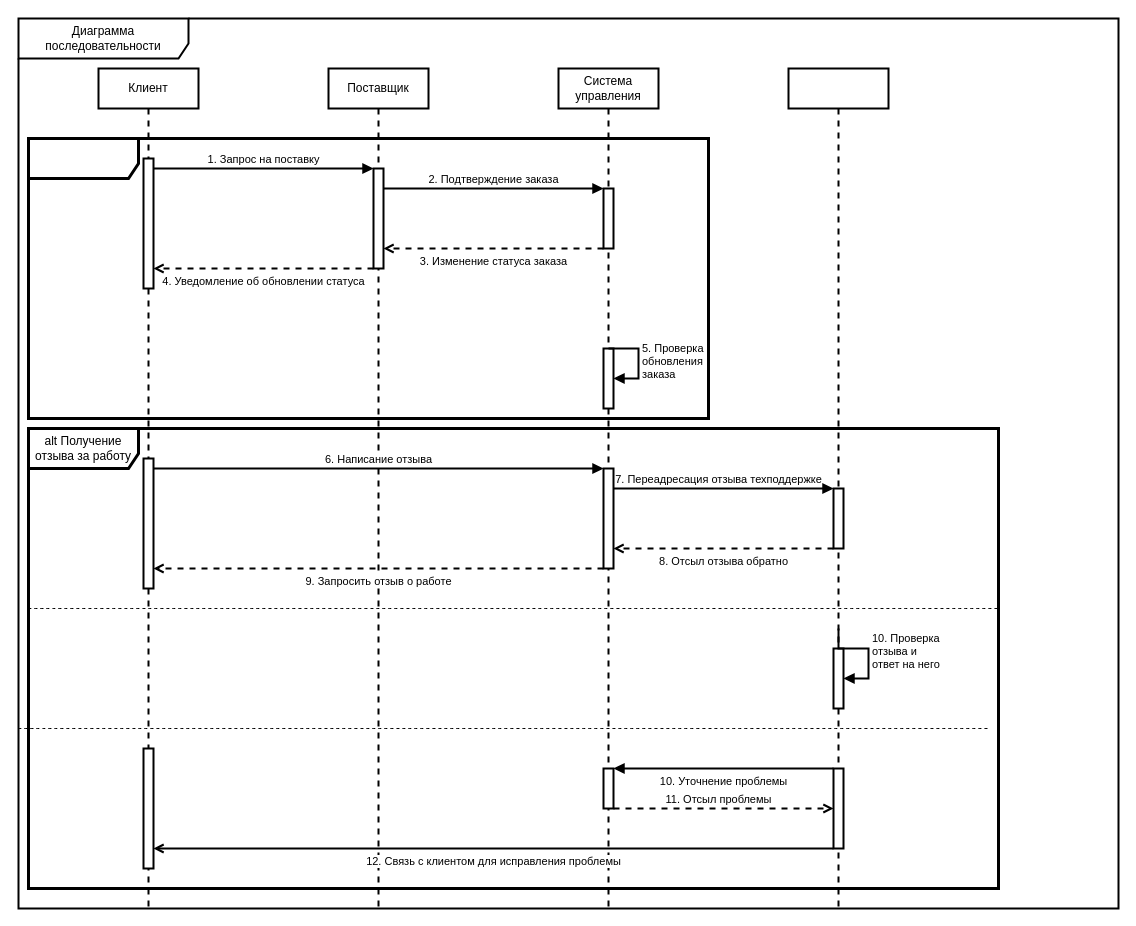
Some shapes in this 1136 by 926 pixel diagram are drawn without their labels. The box of each missing label's shape, as (x1, y1, x2, y2) in pixels:
opt Ввод заказа: (26, 136, 710, 420)
Техническая поддержка: (787, 67, 889, 909)
